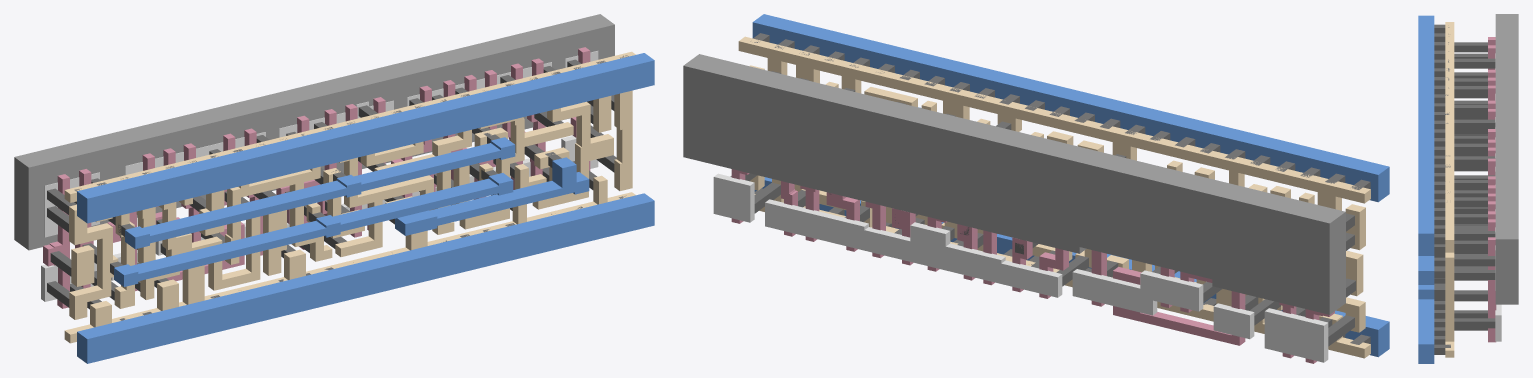
The model's file is sky130_fd_sc_hd__sdfrtp_1.gds.gltf.
3 renders of one model, left to right at view 1: azimuth 30°, elevation 25°; view 2: azimuth 150°, elevation 25°; view 3: azimuth 270°, elevation 25°, orthographic. The views are drawn at different scales.
Visible parts, largest first — view 1: sky130_fd_sc_hd__sdfrtp_1_met1, sky130_fd_sc_hd__sdfrtp_1_li1, sky130_fd_sc_hd__sdfrtp_1_nwell, sky130_fd_sc_hd__sdfrtp_1_poly, sky130_fd_sc_hd__sdfrtp_1_licon, sky130_fd_sc_hd__sdfrtp_1_diff, sky130_fd_sc_hd__sdfrtp_1_mcon; view 2: sky130_fd_sc_hd__sdfrtp_1_nwell, sky130_fd_sc_hd__sdfrtp_1_li1, sky130_fd_sc_hd__sdfrtp_1_diff, sky130_fd_sc_hd__sdfrtp_1_met1, sky130_fd_sc_hd__sdfrtp_1_poly, sky130_fd_sc_hd__sdfrtp_1_mcon, sky130_fd_sc_hd__sdfrtp_1_licon; view 3: sky130_fd_sc_hd__sdfrtp_1_licon, sky130_fd_sc_hd__sdfrtp_1_nwell, sky130_fd_sc_hd__sdfrtp_1_met1, sky130_fd_sc_hd__sdfrtp_1_mcon, sky130_fd_sc_hd__sdfrtp_1_li1, sky130_fd_sc_hd__sdfrtp_1_poly, sky130_fd_sc_hd__sdfrtp_1_diff.
Part boxes in pixels (bbox=[...]): sky130_fd_sc_hd__sdfrtp_1_met1: bbox=[77, 53, 654, 363]; sky130_fd_sc_hd__sdfrtp_1_li1: bbox=[64, 51, 635, 343]; sky130_fd_sc_hd__sdfrtp_1_nwell: bbox=[14, 14, 614, 250]; sky130_fd_sc_hd__sdfrtp_1_poly: bbox=[43, 47, 590, 308]; sky130_fd_sc_hd__sdfrtp_1_licon: bbox=[47, 59, 616, 309]; sky130_fd_sc_hd__sdfrtp_1_diff: bbox=[41, 51, 598, 301]; sky130_fd_sc_hd__sdfrtp_1_mcon: bbox=[74, 55, 628, 320]; sky130_fd_sc_hd__sdfrtp_1_nwell: bbox=[683, 54, 1345, 314]; sky130_fd_sc_hd__sdfrtp_1_li1: bbox=[738, 36, 1370, 358]; sky130_fd_sc_hd__sdfrtp_1_diff: bbox=[713, 173, 1328, 362]; sky130_fd_sc_hd__sdfrtp_1_met1: bbox=[752, 14, 1389, 357]; sky130_fd_sc_hd__sdfrtp_1_poly: bbox=[731, 169, 1334, 363]; sky130_fd_sc_hd__sdfrtp_1_mcon: bbox=[750, 33, 1370, 344]; sky130_fd_sc_hd__sdfrtp_1_licon: bbox=[730, 71, 1355, 346]; sky130_fd_sc_hd__sdfrtp_1_licon: bbox=[1454, 42, 1495, 330]; sky130_fd_sc_hd__sdfrtp_1_nwell: bbox=[1495, 14, 1518, 304]; sky130_fd_sc_hd__sdfrtp_1_met1: bbox=[1418, 15, 1434, 363]; sky130_fd_sc_hd__sdfrtp_1_mcon: bbox=[1434, 24, 1450, 354]; sky130_fd_sc_hd__sdfrtp_1_li1: bbox=[1445, 22, 1454, 357]; sky130_fd_sc_hd__sdfrtp_1_poly: bbox=[1488, 37, 1496, 342]; sky130_fd_sc_hd__sdfrtp_1_diff: bbox=[1495, 53, 1501, 341].
Size of the model in its own units: 11.88 by 3.2 by 2.24.
